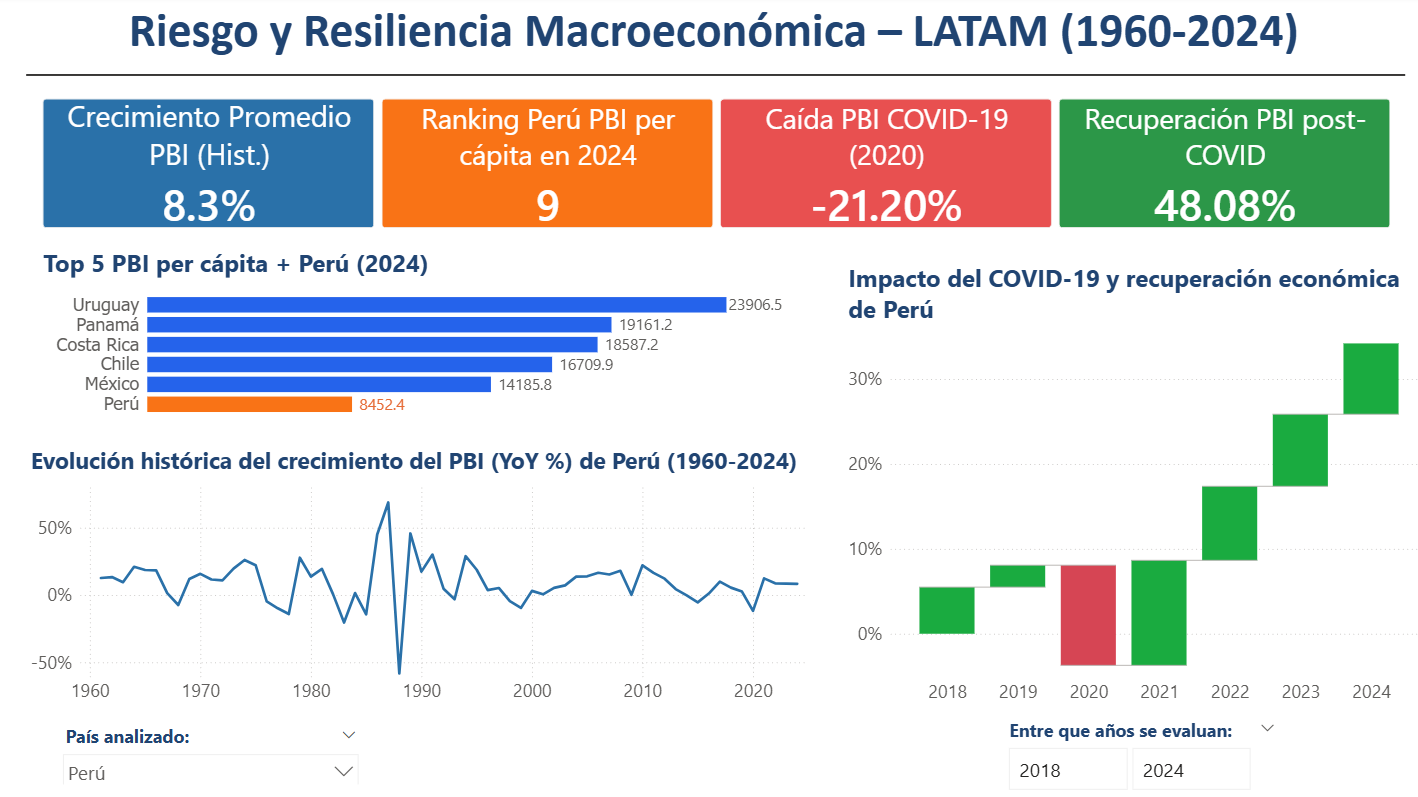

What the dashboard file says about the page in this screenshot:
{"tool":"powerbi","page":{"name":"Página 1","canvas":[1600,900],"ordinal":0},"visuals":[{"type":"textbox","box":[0,0,1600,98.3],"z":0},{"type":"shape","box":[35,78.3,1535,20],"z":1000},{"type":"cardVisual","fields":{"Data":["macro_analysis.Avg_GDP_Growth","macro_analysis.Rank_Peru_2024","macro_analysis.COVID_Contraction_2020","Analisis Macro LATAM.Recuperación PBI 2020-2024"]},"box":[36,98,1534,178],"z":2000},{"type":"slicer","fields":{"Values":["Analisis Macro LATAM.Pais Nombre"]},"box":[65.6,805.1,349.3,72.1],"z":3000},{"type":"barChart","title":"Top 5 PBI per cápita + Perú (2024) ","fields":{"Category":["Analisis Macro LATAM.Pais Nombre"],"Y":["Sum(Analisis Macro LATAM.PBI per capita)"]},"box":[49.1,277.6,832.8,199.4],"z":4000},{"type":"waterfallChart","fields":{"Category":["Analisis Macro LATAM.Año"],"Y":["Analisis Macro LATAM.Crecimiento PBI YoY (%)"]},"box":[944.5,295.1,655.9,503.4],"z":4001},{"type":"slicer","fields":{"Values":["Analisis Macro LATAM.Año"]},"box":[1116.6,798.5,321.4,101.7],"z":4002},{"type":"lineChart","fields":{"Category":["Analisis Macro LATAM.Año"],"Y":["Analisis Macro LATAM.Crecimiento PBI YoY (%)"]},"box":[34.4,500.1,885.4,298.4],"z":4003}]}

Visuals, with their boxes in screenshot pixels (x1, y1, x2, y2), scaled from the page's 1600x900 canvas onto the 1418x797 screenshot:
textbox: 0,0,1417,87
shape: 31,69,1391,87
cardVisual - macro_analysis.Avg_GDP_Growth x macro_analysis.Rank_Peru_2024: 32,87,1391,244
slicer - Analisis Macro LATAM.Pais Nombre: 58,713,368,777
"Top 5 PBI per cápita + Perú (2024) " barChart: 44,246,782,422
waterfallChart - Analisis Macro LATAM.Año x Analisis Macro LATAM.Crecimiento PBI YoY (%): 837,261,1417,707
slicer - Analisis Macro LATAM.Año: 990,707,1274,796
lineChart - Analisis Macro LATAM.Año x Analisis Macro LATAM.Crecimiento PBI YoY (%): 30,443,815,707
